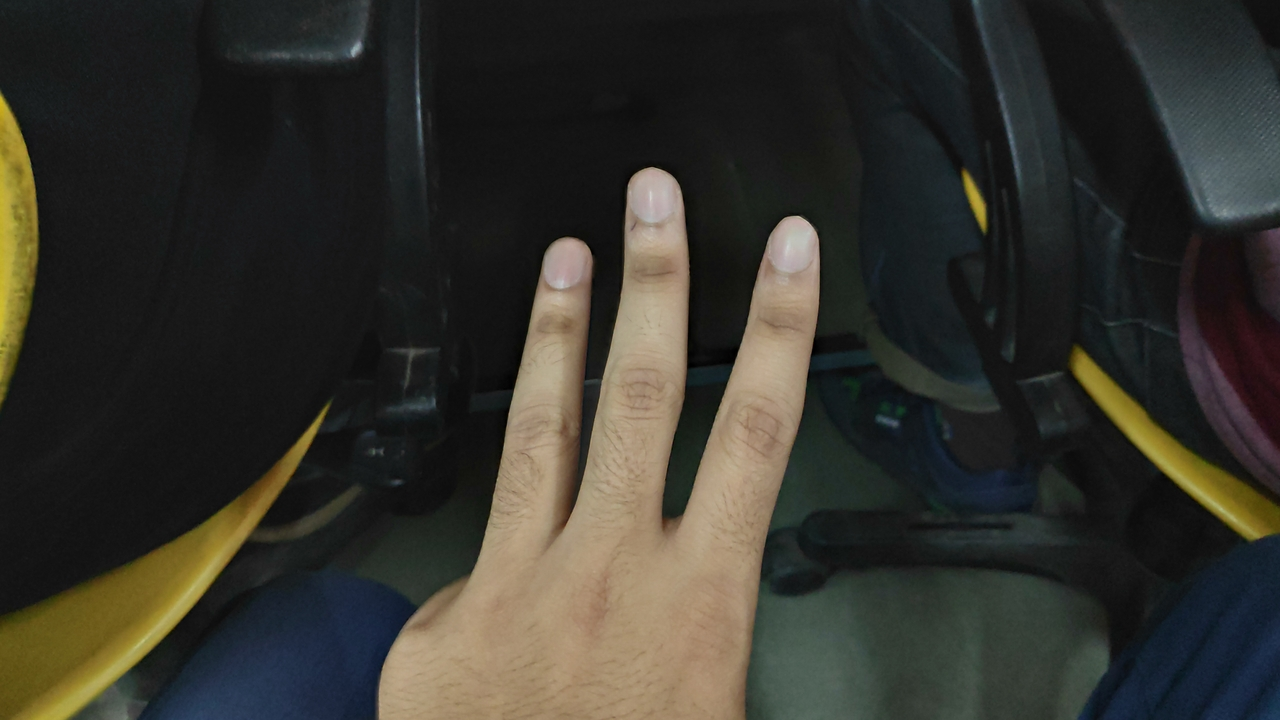fingertip: (752, 208, 830, 284), (618, 166, 694, 242), (532, 234, 600, 298)
